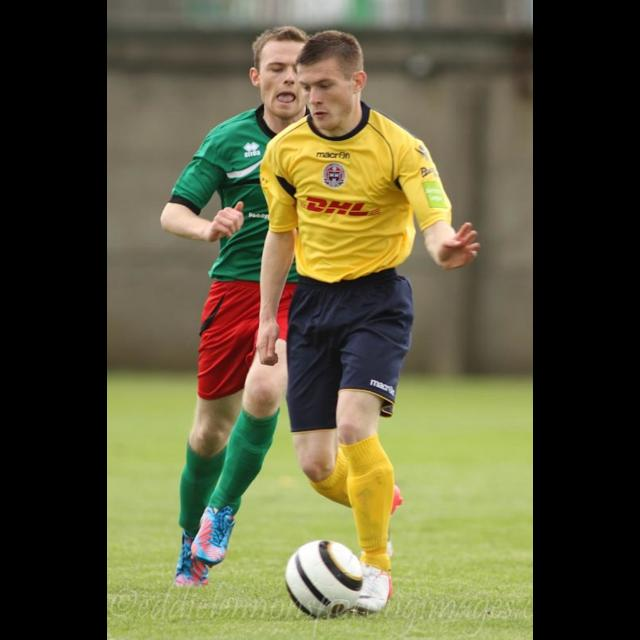Football: (282, 538, 366, 620)
